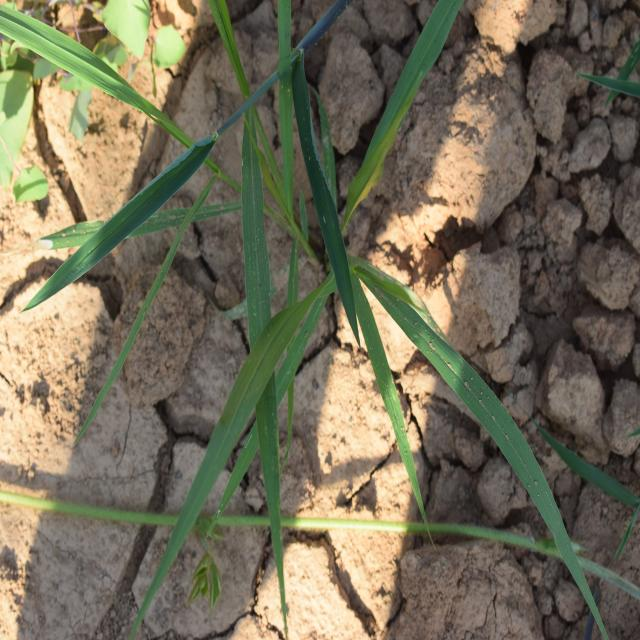green_foxtail: (143, 220, 562, 540)
